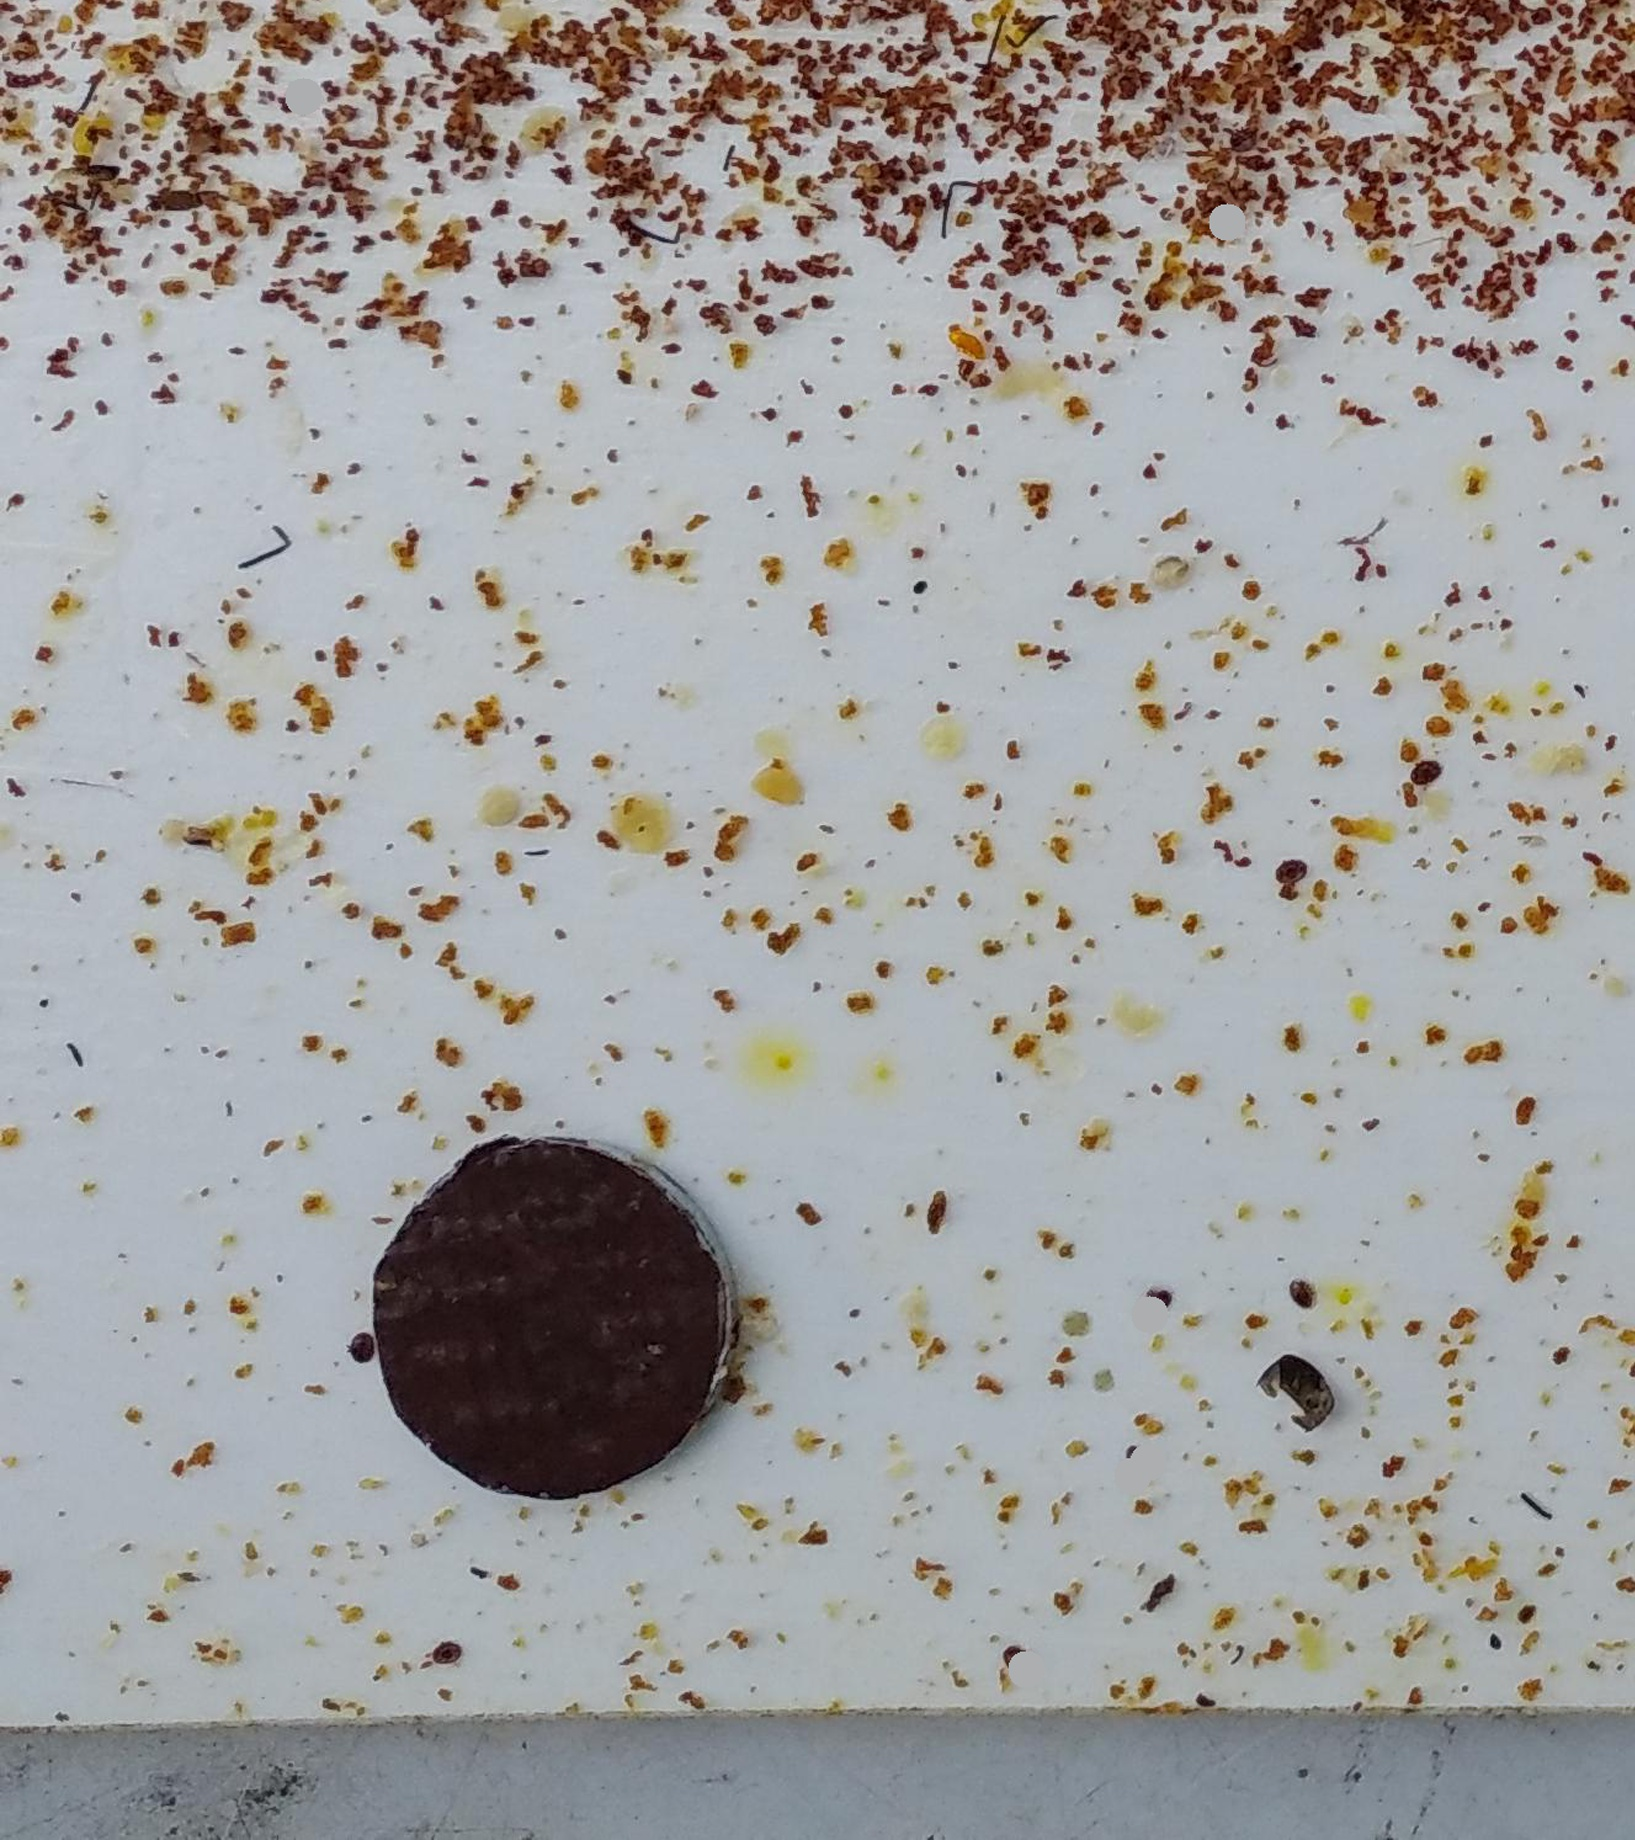Varroa: (1277, 855, 1307, 885), (1117, 1442, 1146, 1471), (1411, 754, 1438, 784), (1286, 1277, 1311, 1305), (1146, 1283, 1169, 1310), (349, 1332, 374, 1356), (1005, 1646, 1023, 1679), (432, 1649, 455, 1668)
